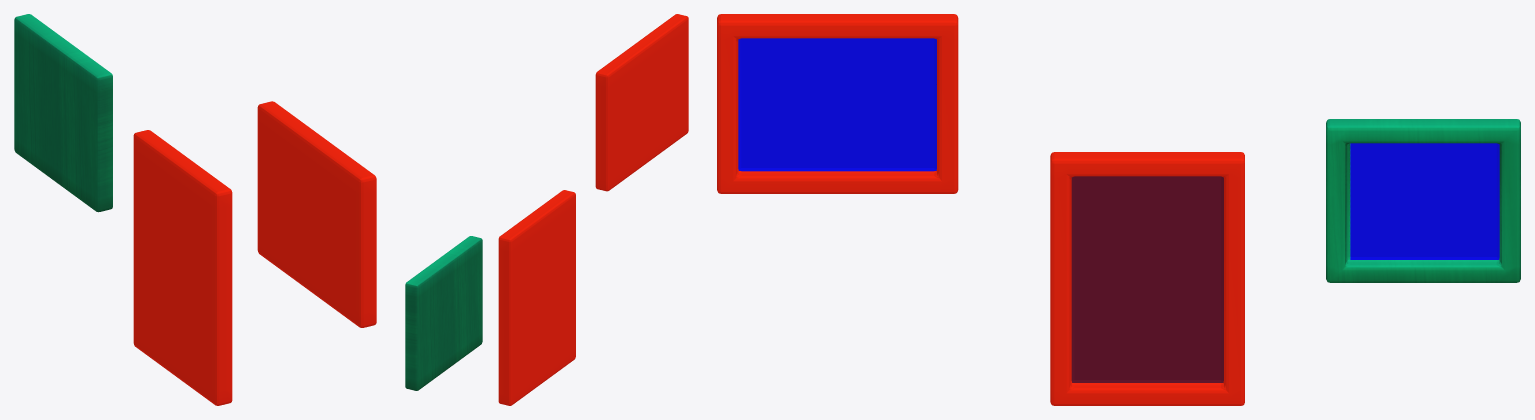
File: frame.glb
3 renders of one model, left to right at view 1: azimuth 30°, elevation 25°; view 2: azimuth 150°, elevation 25°; view 3: azimuth 270°, elevation 25°, orthographic. The views are drawn at different scales.
Parts seen in each view (by area): view 1: room1_frame; view 2: room1_frame; view 3: room1_frame.
Part boxes in pixels (x1,y1,x2,y2): room1_frame: (14, 14, 376, 405); room1_frame: (405, 14, 688, 405); room1_frame: (717, 14, 1520, 405).
Size of the model in its own units: 0.1843 by 3.44 by 6.5.
Materials: 1 (1 with a texture image).
